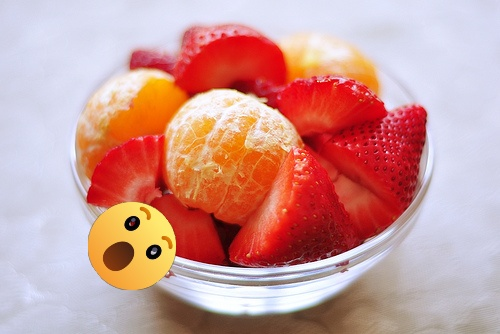wow: (88, 202, 176, 290)
